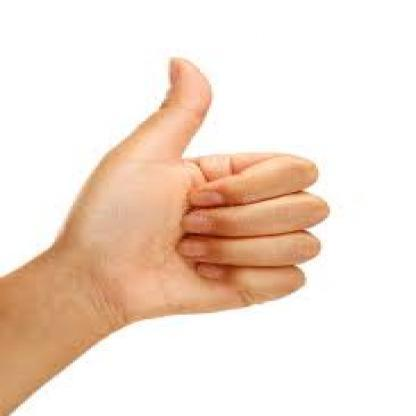thumb_up: (72, 54, 330, 324)
